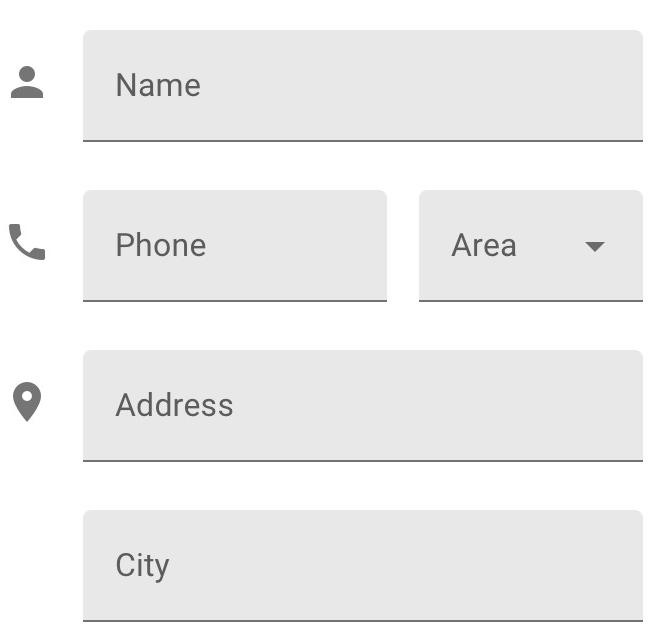field: (77, 344, 649, 469), (78, 23, 647, 148), (80, 505, 649, 625), (80, 187, 389, 308), (414, 184, 647, 307)
